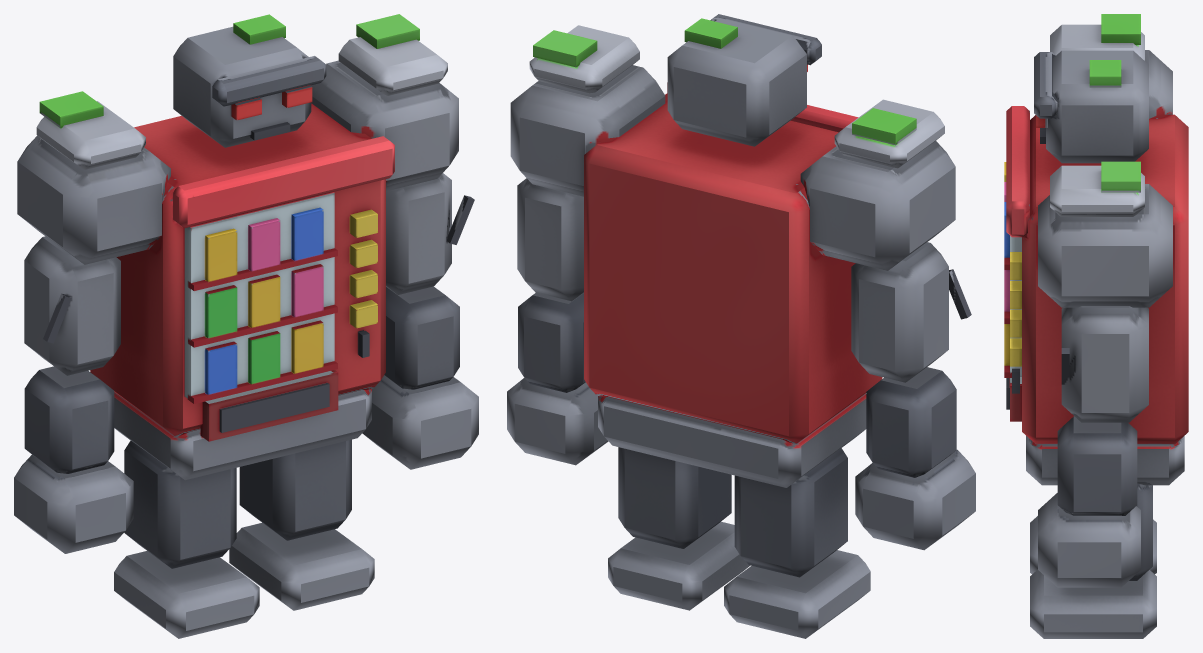
File: GolemDistributeur_Rig.fbx
The picture shows the model from 3 angles, left to right: view 1: azimuth 30°, elevation 25°; view 2: azimuth 150°, elevation 25°; view 3: azimuth 270°, elevation 25°; orthographic projection. The views are drawn at different scales.
Parts seen in each view (by area): view 1: Body, ArmR, ArmL, LegR, LegL, Head; view 2: Body, ArmR, ArmL, LegR, LegL, Head; view 3: Body, ArmL, Head, LegL, LegR.
Boxes of the visible parts, box(x1,y1,x2,y2) form: Body: box(17, 14, 458, 480); ArmR: box(14, 236, 133, 553); ArmL: box(362, 173, 478, 469); LegR: box(114, 440, 259, 638); LegL: box(229, 439, 374, 610); Head: box(173, 14, 326, 147); Body: box(510, 25, 955, 487); ArmR: box(851, 242, 975, 550); ArmL: box(507, 178, 608, 465); LegR: box(724, 448, 870, 638); LegL: box(608, 447, 750, 610); Head: box(667, 14, 821, 146); Body: box(1004, 14, 1188, 485); ArmL: box(1038, 306, 1148, 587); Head: box(1034, 50, 1148, 163); LegL: box(1030, 483, 1156, 638); LegR: box(1030, 516, 1156, 574).
Size of the model in its own units: 4.82 by 6 by 1.87.
Materials: 1 (1 with a texture image).
